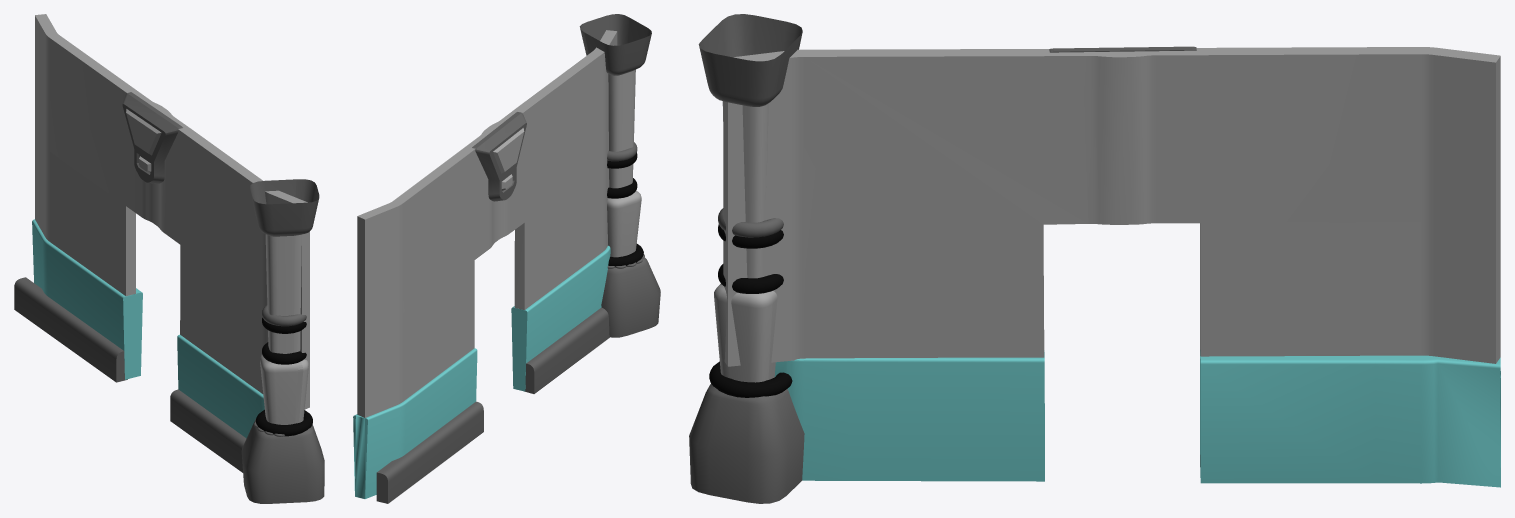
File: murs_entree_serv (1).fbx
The picture shows the model from 3 angles, left to right: view 1: azimuth 30°, elevation 25°; view 2: azimuth 150°, elevation 25°; view 3: azimuth 270°, elevation 25°; orthographic projection. The views are drawn at different scales.
Parts seen in each view (by area): view 1: Object026, Box074, Object027; view 2: Object026, Box074, Object027; view 3: Object026.
Part boxes in pixels (x1,y1,x2,y2): Object026: (14, 14, 324, 503); Box074: (122, 92, 182, 183); Object027: (126, 109, 161, 172); Object026: (353, 14, 660, 503); Box074: (472, 112, 526, 201); Object027: (493, 128, 524, 190); Object026: (689, 14, 1500, 503).
Size of the model in its own units: 10.34 by 37.75 by 62.98.
